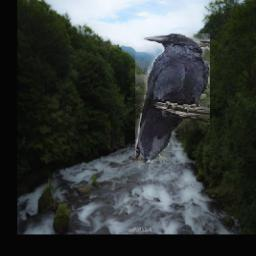Crow: (135, 33, 210, 163)
